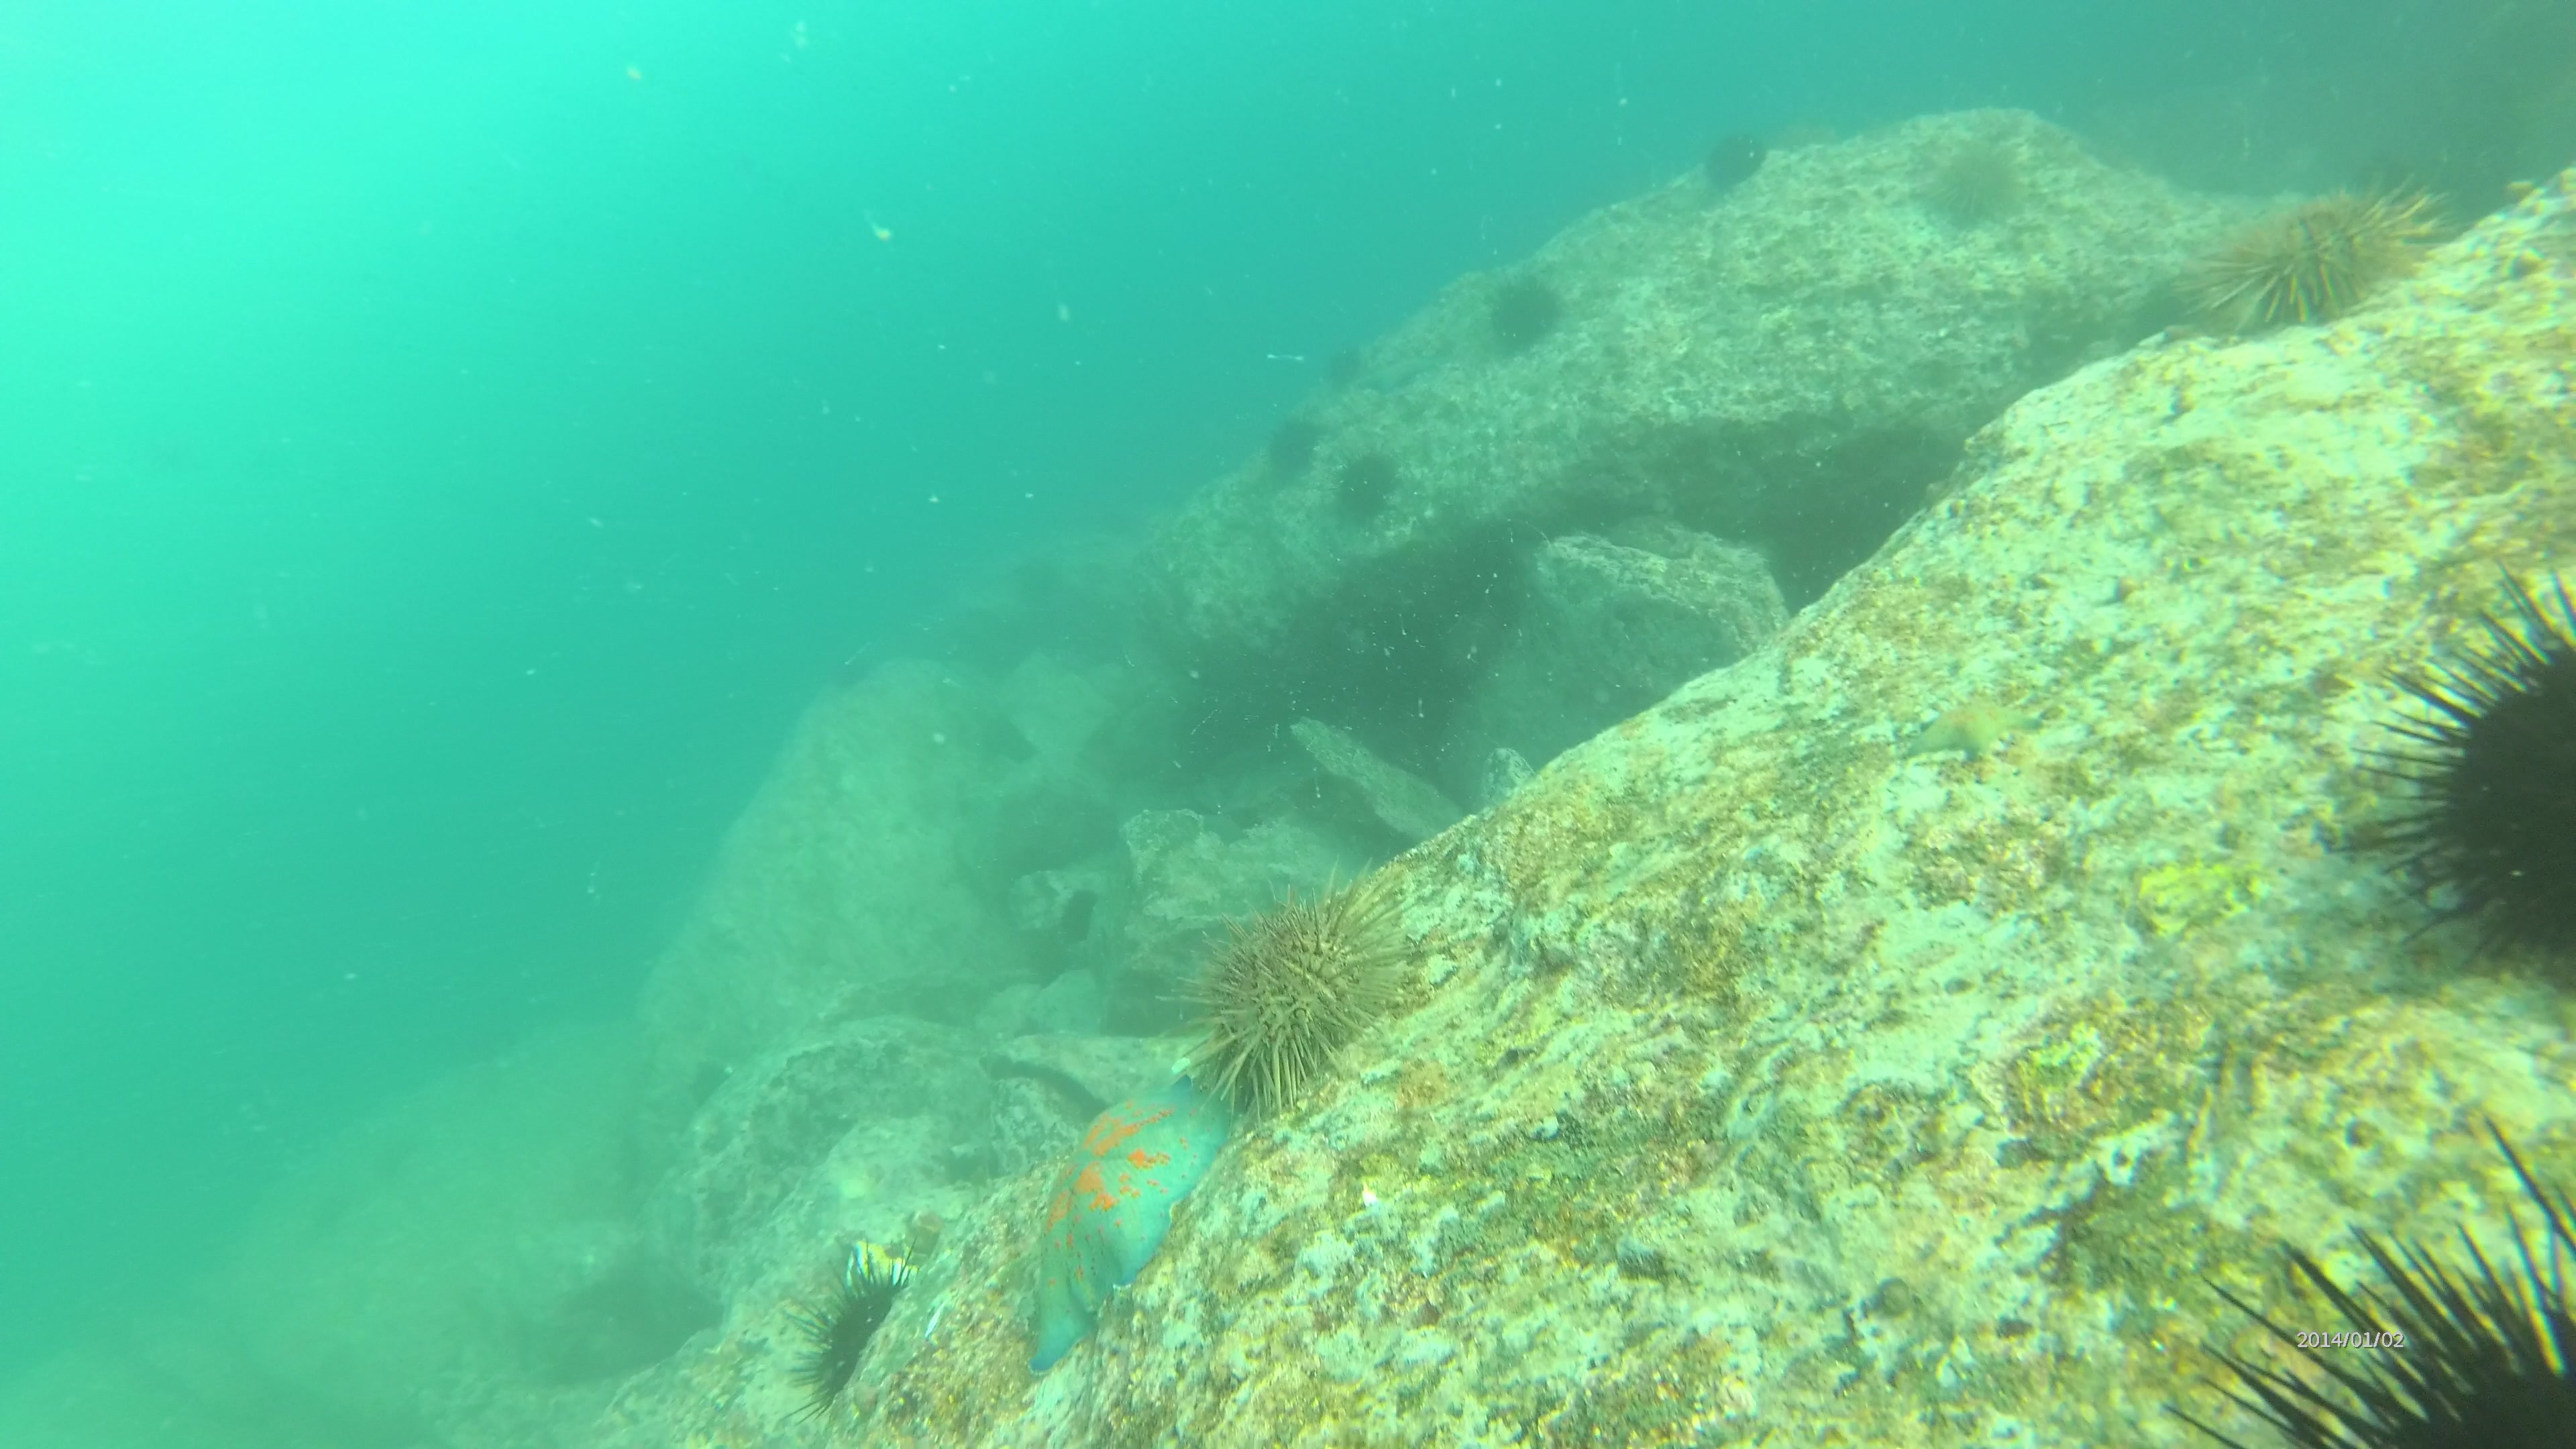echinus: (2173, 1111, 2576, 1449), (2351, 557, 2576, 1005), (1180, 865, 1447, 1139), (2190, 172, 2450, 338), (775, 1244, 924, 1415), (1921, 138, 2024, 225), (1329, 446, 1412, 548), (1481, 269, 1566, 363), (1693, 126, 1771, 196), (1261, 412, 1329, 488), (1322, 333, 1369, 396)
starfish: (1023, 1069, 1246, 1380)
